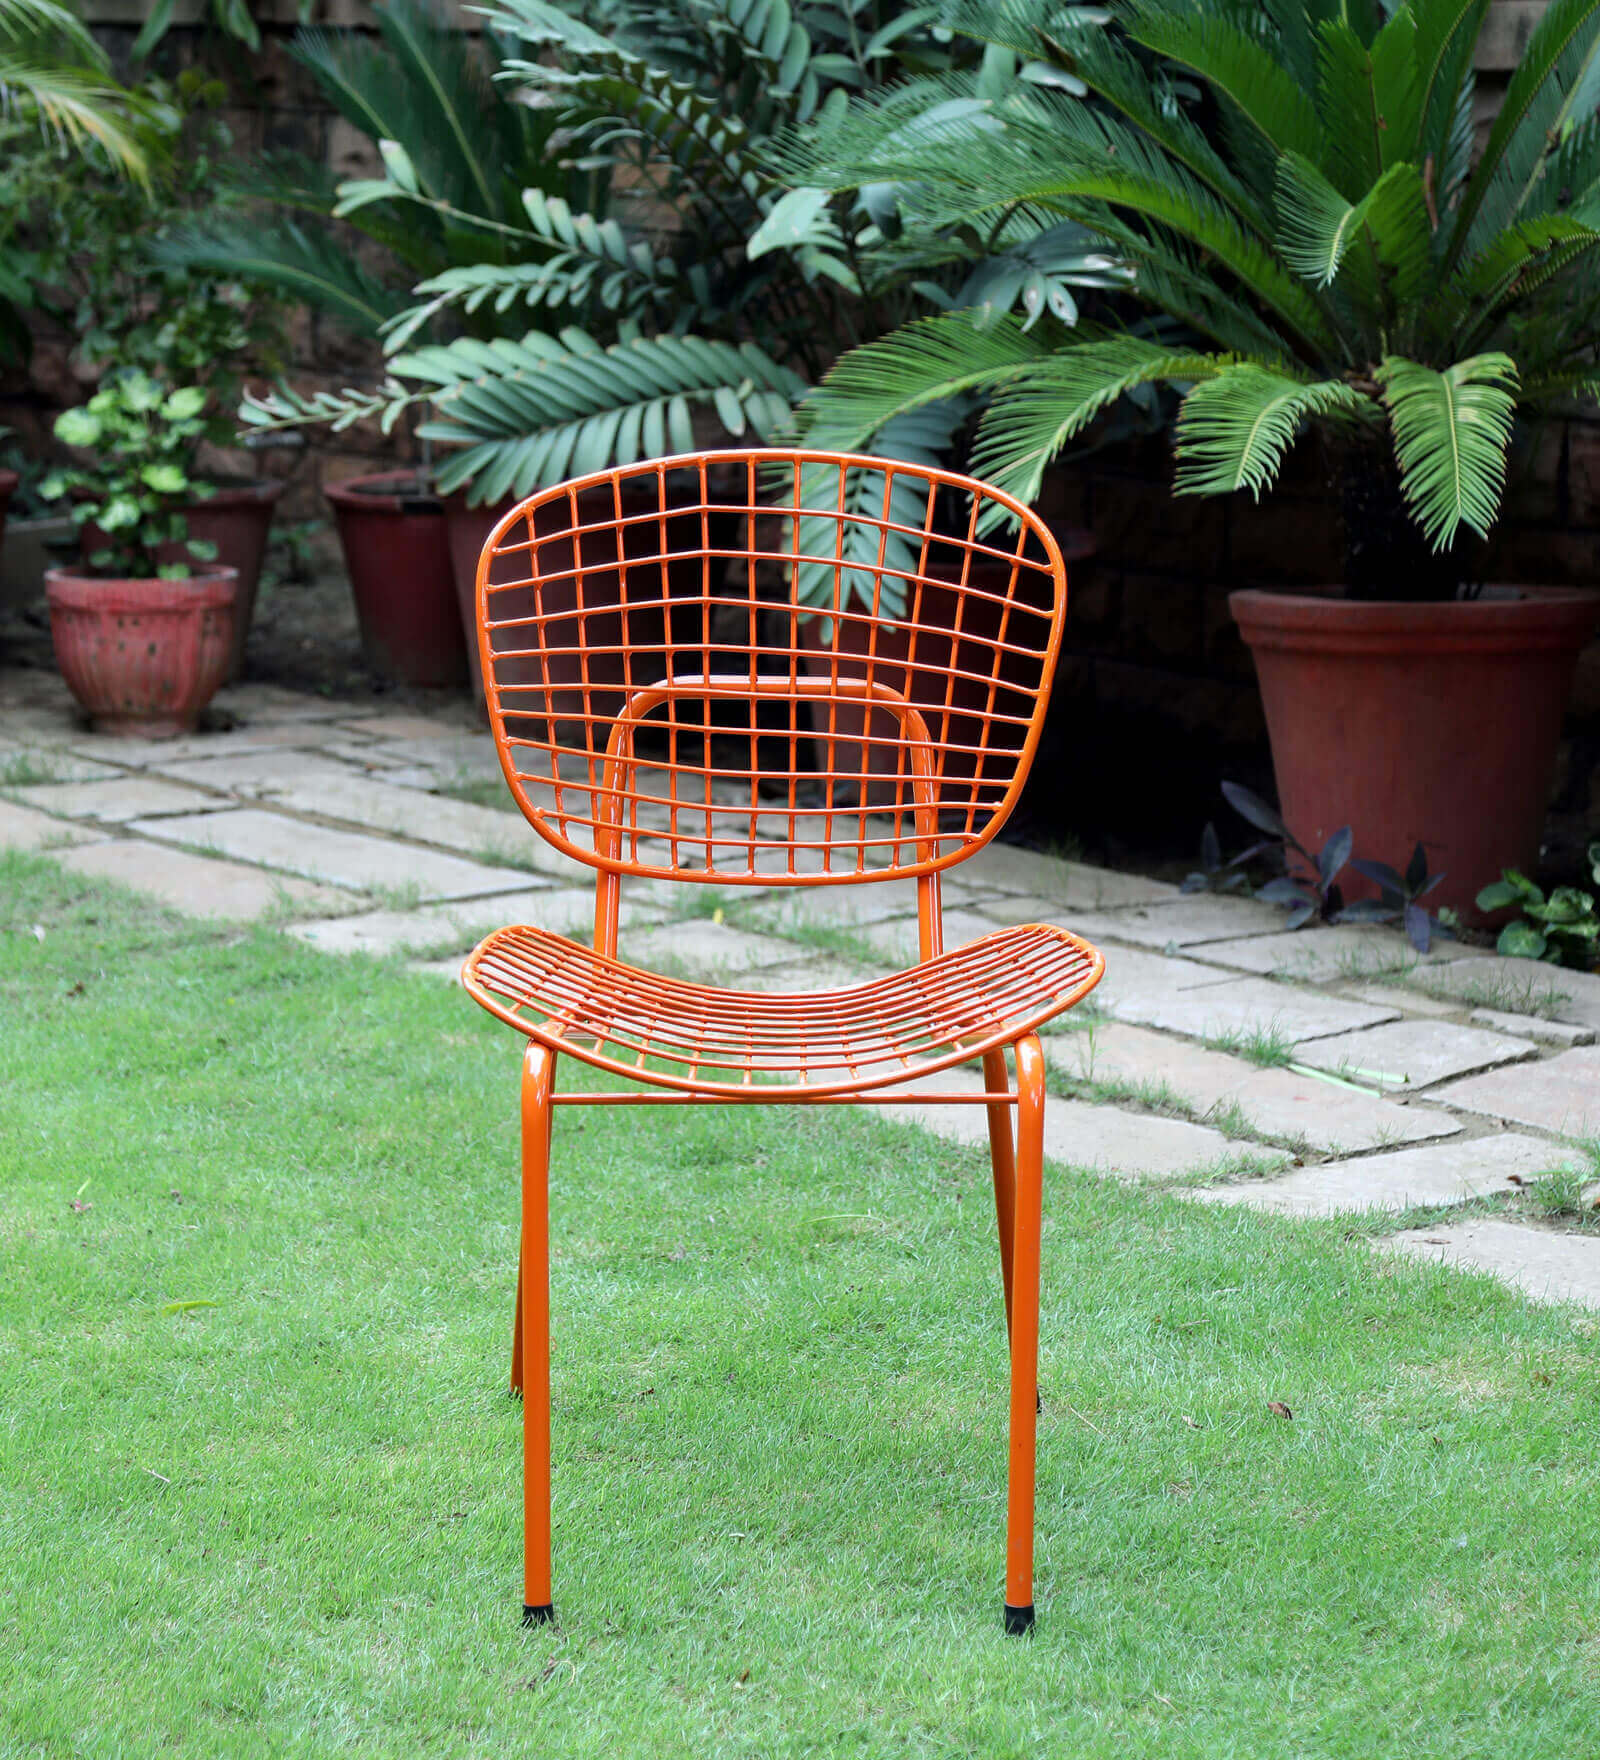Annette Metal Chair in Orange Color by Bohemiana: (421, 431, 1154, 1685)
